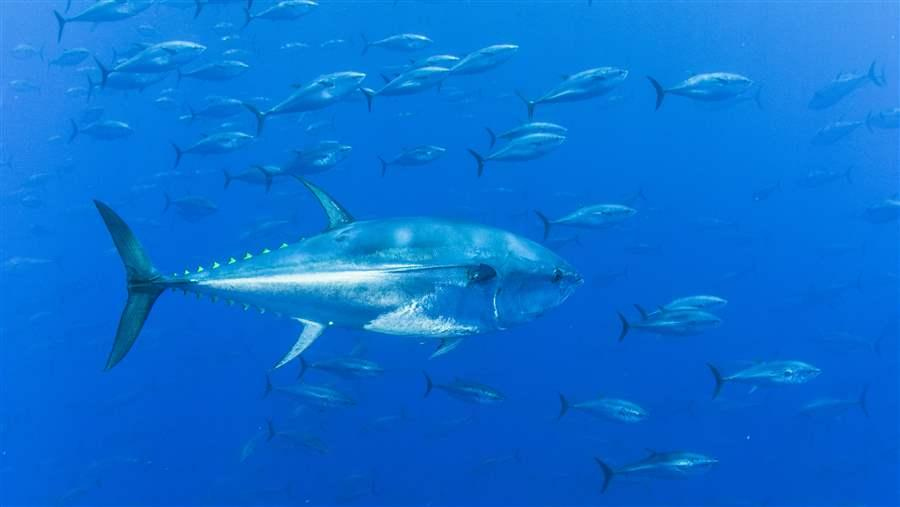Bluefina Tuna: (87, 197, 599, 368)
